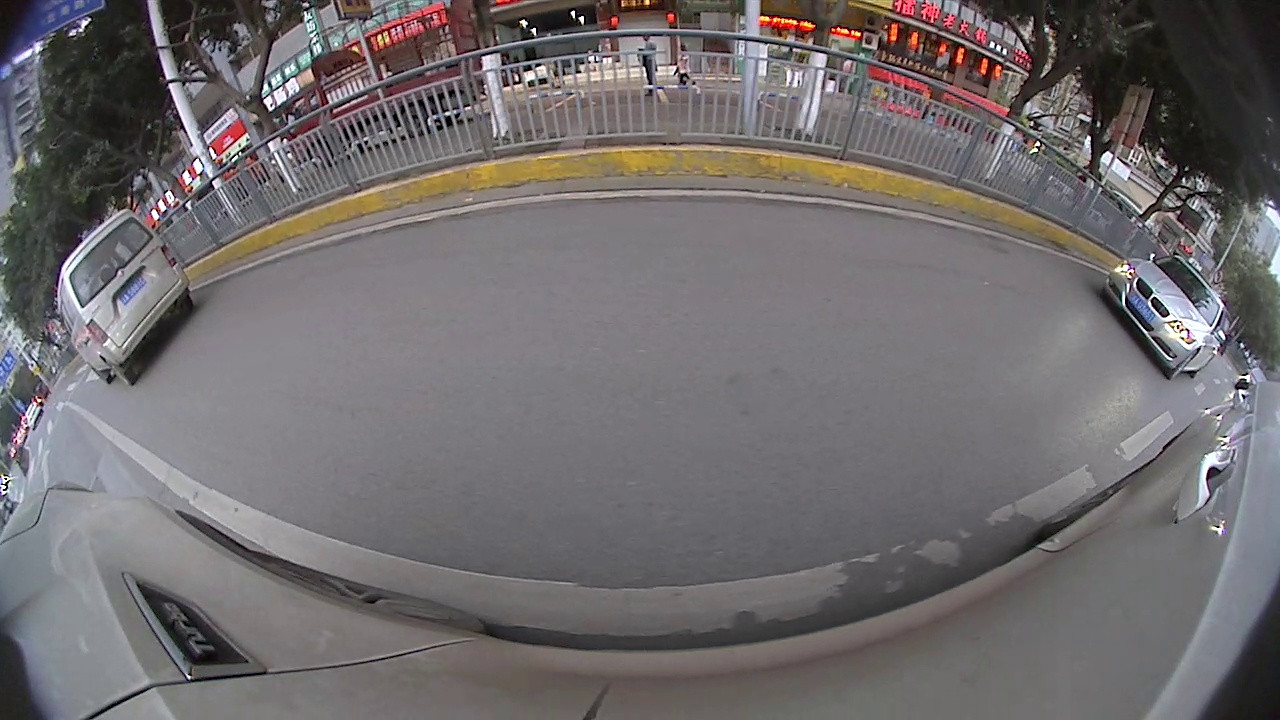car: (51, 205, 196, 386), (1097, 248, 1239, 383)
truck: (279, 5, 509, 174)
